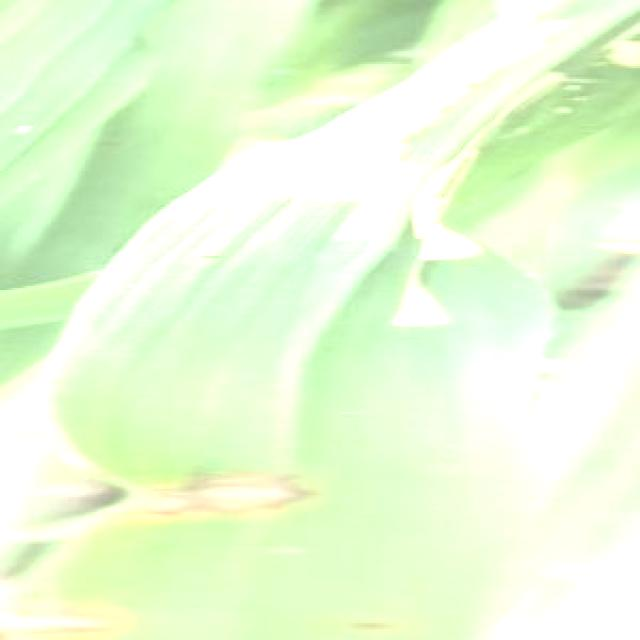Brown_Spot: (139, 464, 329, 532)
